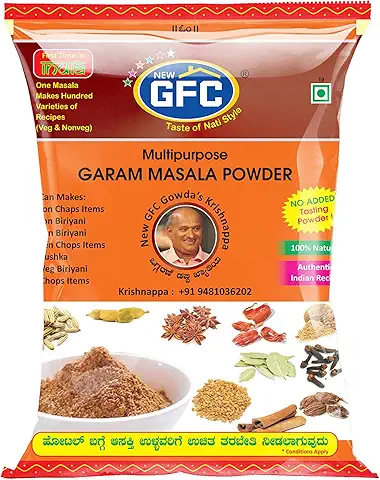Garamasala: (4, 5, 380, 480)
